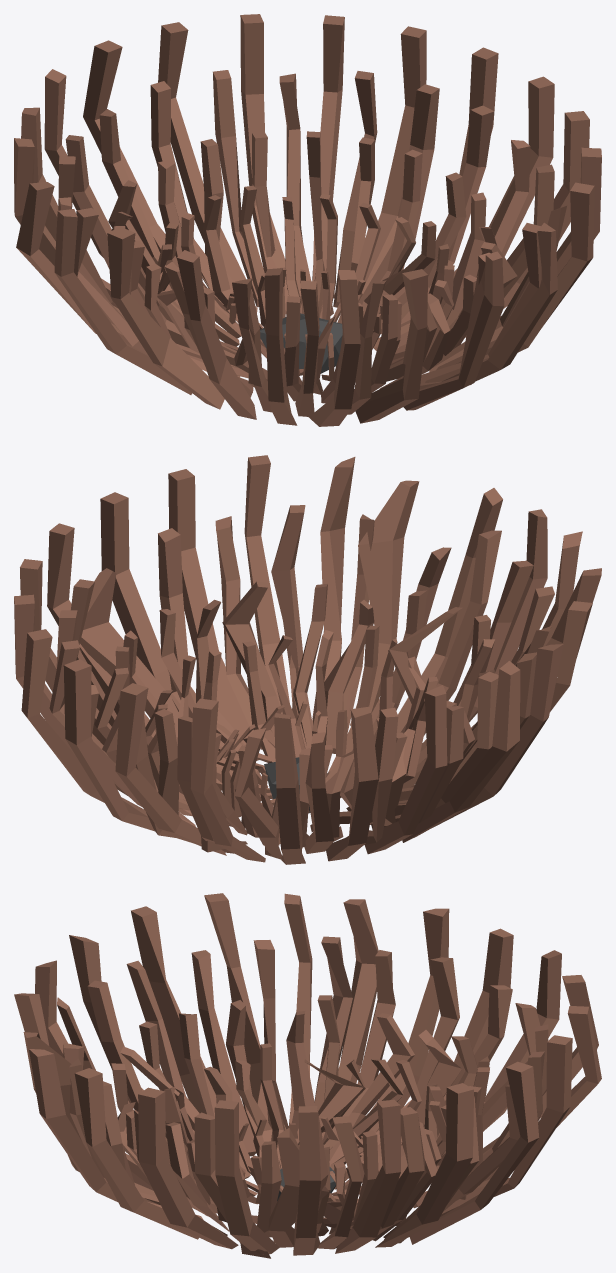
File: coral 6.fbx
3 renders of one model, top to bottom at view 1: azimuth 30°, elevation 25°; view 2: azimuth 150°, elevation 25°; view 3: azimuth 270°, elevation 25°, orthographic. The views are drawn at different scales.
Visible parts, largest first — view 1: Plane.006; view 2: Plane.006; view 3: Plane.006.
Boxes of the visible parts, x1,y1,x2,y2 form: Plane.006: [14, 14, 601, 426]; Plane.006: [14, 455, 601, 864]; Plane.006: [14, 893, 601, 1258].
Size of the model in its own units: 180 by 80 by 200.
